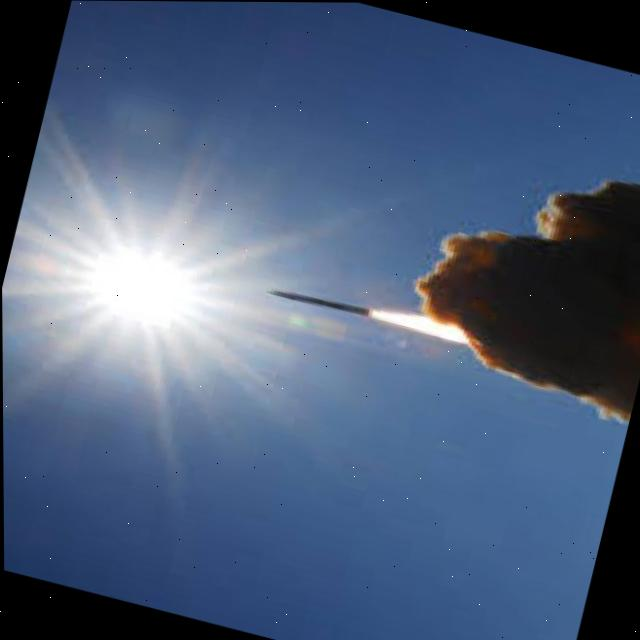missile: (260, 277, 377, 326)
